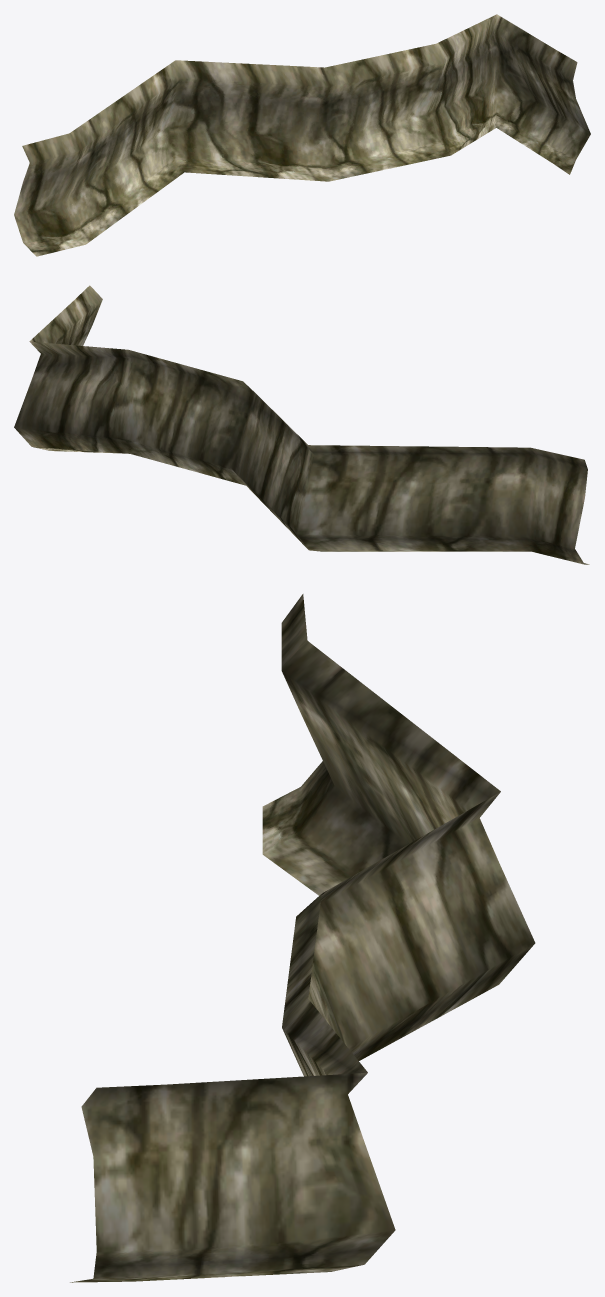
Rendered from CB_NEWPLAYSURFACE_CB_PLAYSURFACE96.fbx.
3 views of the same model, one above another, from view 1: azimuth 30°, elevation 25°; view 2: azimuth 150°, elevation 25°; view 3: azimuth 270°, elevation 25° (orthographic). The views are drawn at different scales.
Parts seen in each view (by area): view 1: CB_NEWPLAYSURFACE_CB_PLAYSURFACE96; view 2: CB_NEWPLAYSURFACE_CB_PLAYSURFACE96; view 3: CB_NEWPLAYSURFACE_CB_PLAYSURFACE96.
Boxes of the visible parts, x1,y1,x2,y2 form: CB_NEWPLAYSURFACE_CB_PLAYSURFACE96: (14, 14, 590, 256); CB_NEWPLAYSURFACE_CB_PLAYSURFACE96: (14, 285, 589, 564); CB_NEWPLAYSURFACE_CB_PLAYSURFACE96: (70, 594, 535, 1282).
Bounding box in the file's own units: 183411 × 35822 × 71547.
2 materials, 2 textured.
